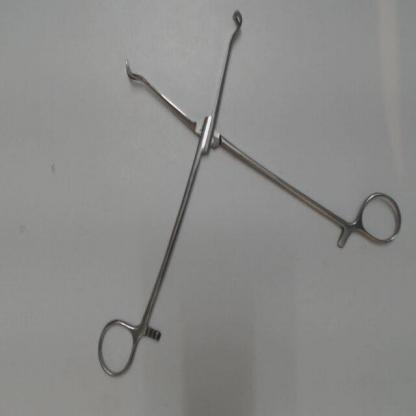8 Babcock Tissue Forceps: (89, 6, 408, 386)
